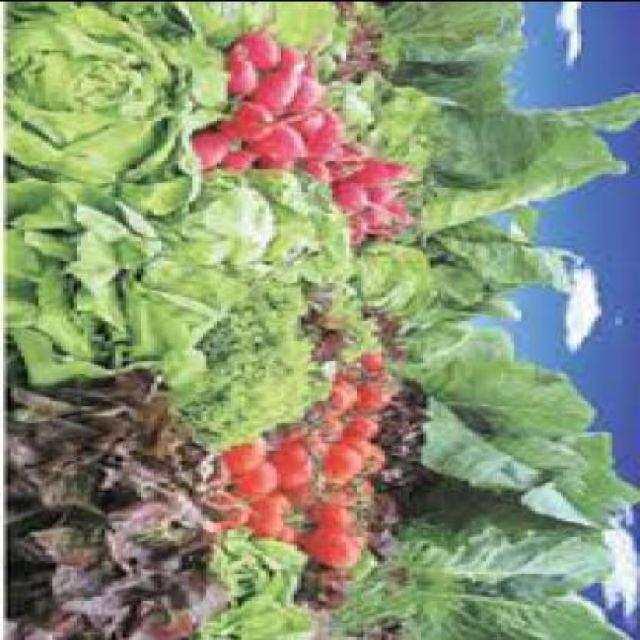BIODEGRADABLE: (1, 374, 232, 638), (3, 179, 277, 384), (3, 3, 235, 219), (388, 363, 638, 528), (402, 88, 640, 245), (355, 526, 634, 639), (175, 292, 339, 452), (192, 172, 357, 290), (203, 2, 357, 80), (211, 532, 323, 638), (392, 2, 532, 66), (440, 224, 560, 288), (394, 60, 518, 112), (329, 76, 409, 156), (361, 244, 441, 322), (437, 266, 525, 320), (217, 102, 315, 140), (409, 324, 517, 358), (262, 51, 308, 114), (252, 126, 314, 169), (302, 531, 360, 571), (252, 496, 298, 539), (196, 119, 235, 168), (318, 508, 371, 542), (241, 30, 284, 70), (230, 444, 273, 484), (276, 446, 315, 488), (228, 60, 266, 100), (324, 448, 368, 482), (237, 464, 280, 498), (346, 440, 388, 474), (336, 479, 382, 510), (304, 53, 328, 112), (364, 161, 422, 185), (283, 482, 322, 512), (336, 181, 370, 214), (227, 154, 273, 177), (302, 162, 336, 193), (304, 140, 347, 163), (328, 158, 372, 179), (336, 381, 364, 414), (371, 207, 398, 238), (364, 384, 391, 414), (360, 187, 412, 202), (294, 112, 324, 137), (353, 211, 372, 244), (350, 422, 384, 440), (228, 42, 255, 61), (322, 115, 343, 139), (368, 371, 398, 386), (360, 354, 388, 369), (402, 210, 416, 225), (346, 150, 368, 158), (392, 200, 402, 209)
